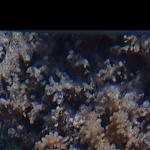dead: (1, 30, 149, 147)
